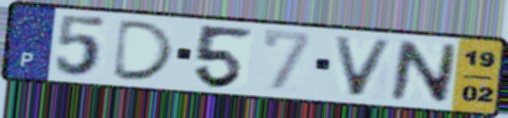5: (189, 22, 258, 89), (53, 15, 112, 80)
7: (259, 28, 318, 95)
D: (109, 18, 179, 82)
N: (386, 38, 460, 106)
V: (330, 34, 397, 99)
